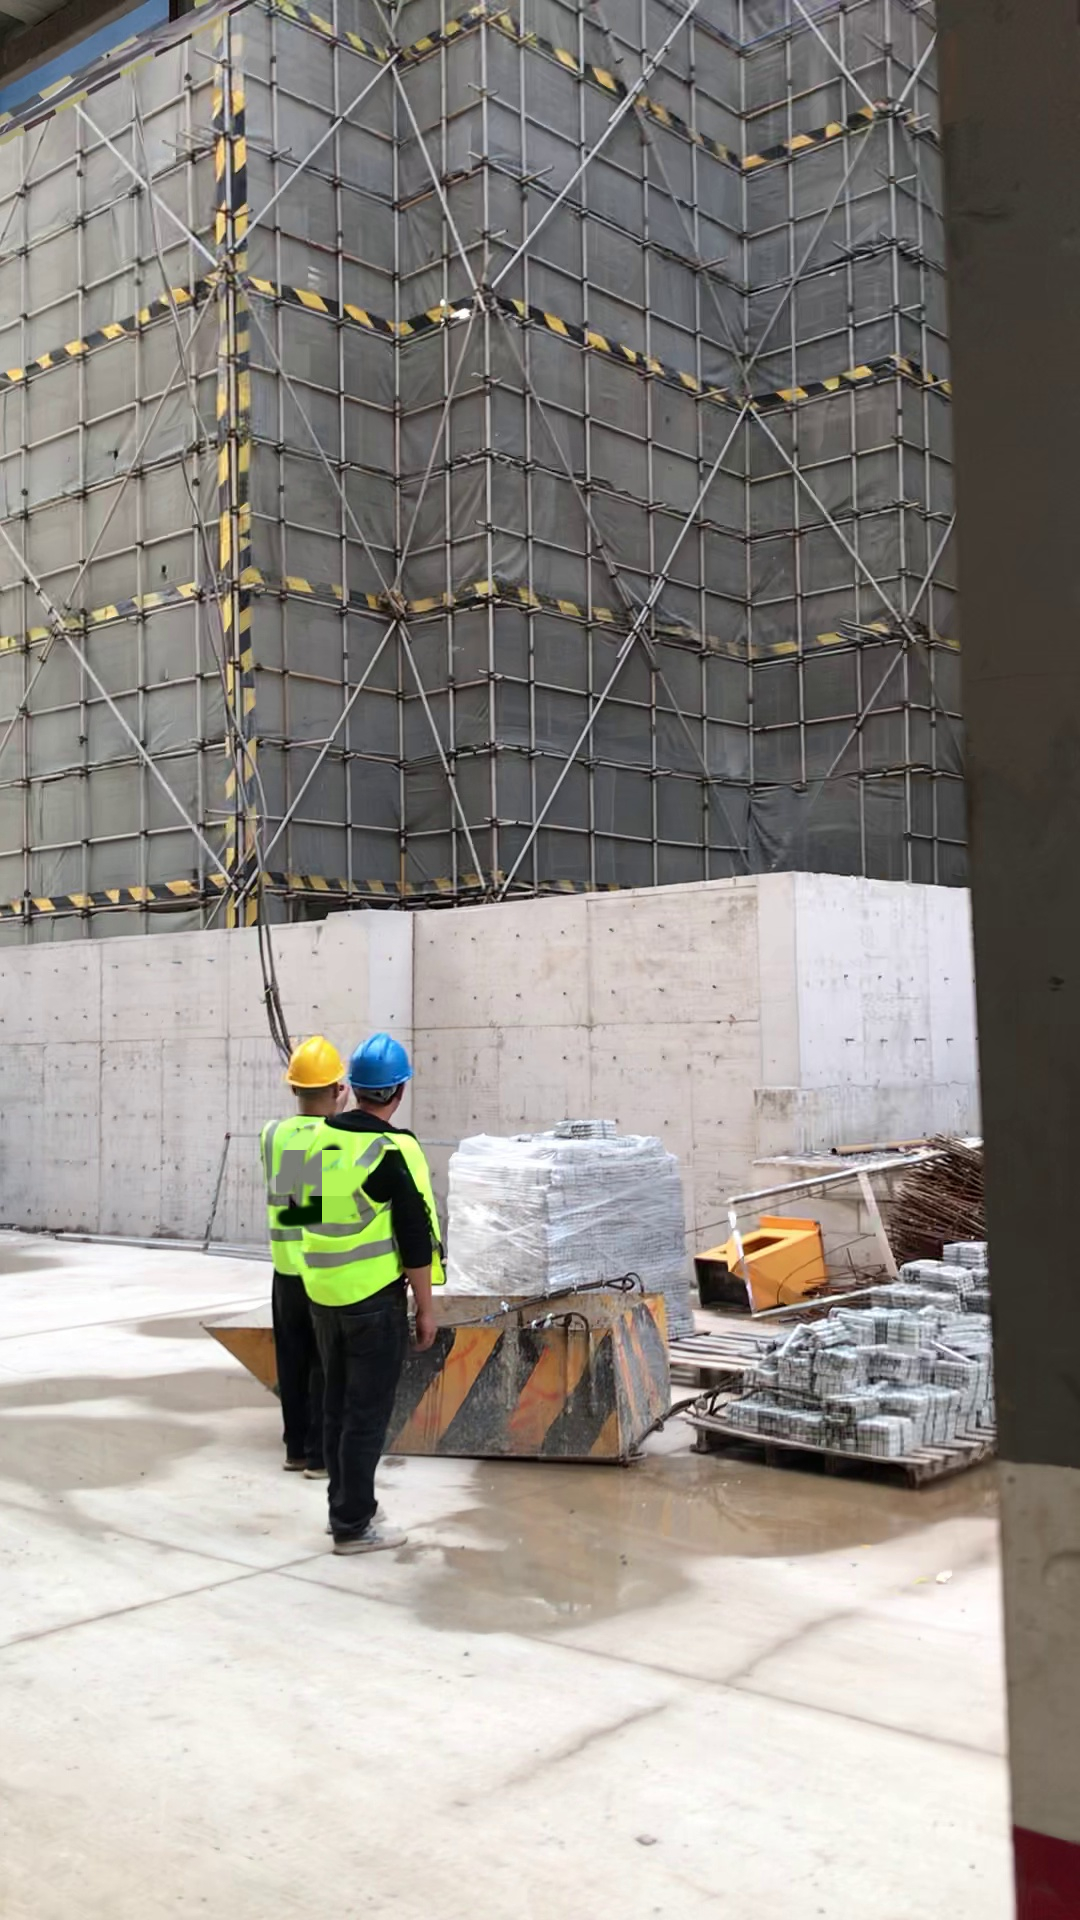helmet: (347, 1035, 415, 1086), (284, 1034, 348, 1088)
person: (318, 1031, 443, 1547), (255, 1031, 355, 1476)
vest: (306, 1121, 445, 1300), (258, 1117, 317, 1270)
